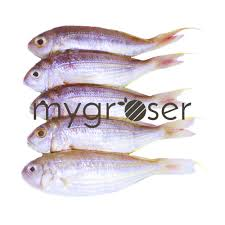Ikan Kerisi: (17, 151, 194, 195), (22, 115, 189, 155), (26, 85, 186, 123), (24, 52, 178, 91), (28, 24, 174, 54)
